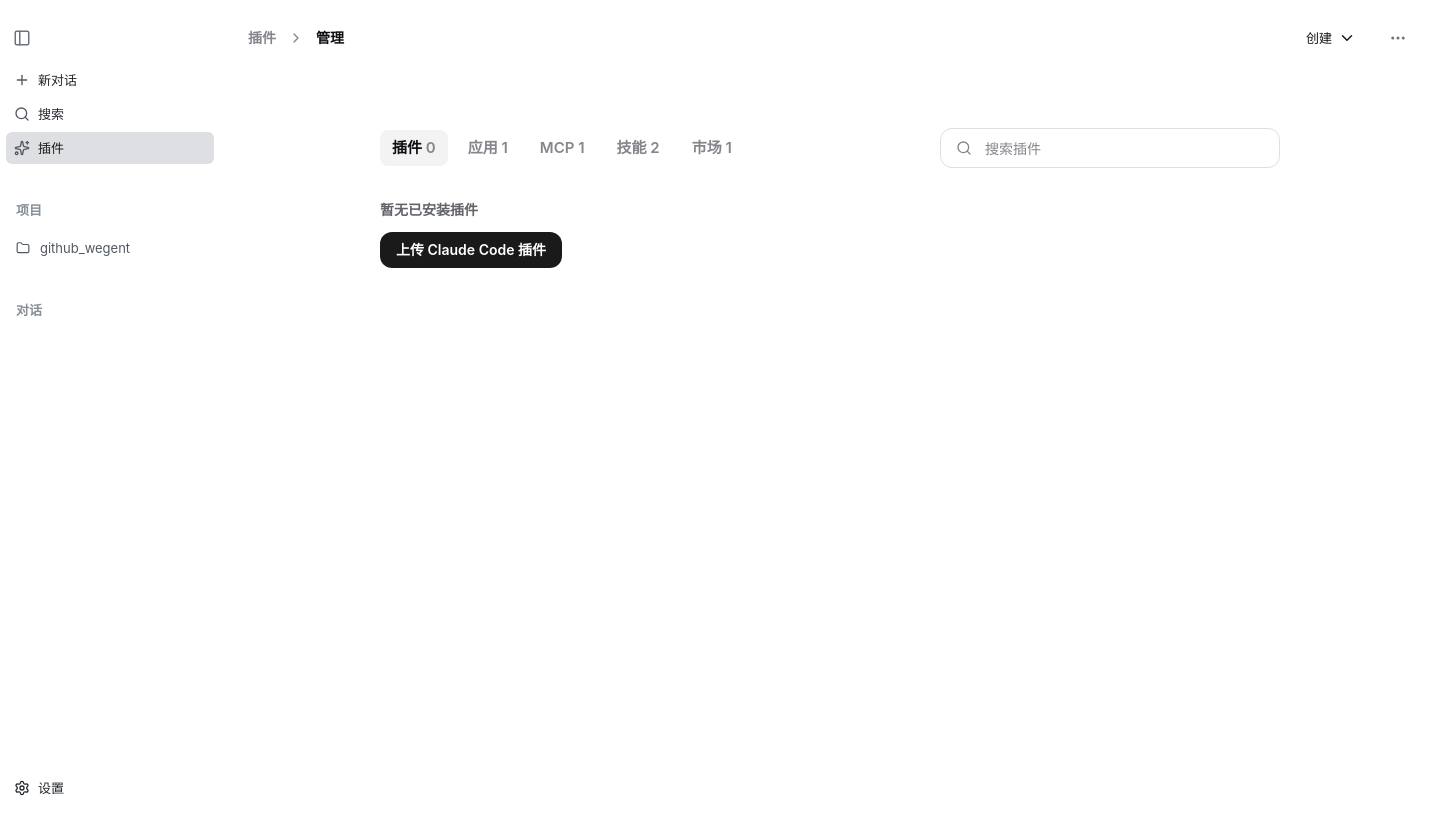
Scenario: App plugins route › collapses and expands the desktop sidebar on plugin management route
Expected: the text "暂无已安装插件" is shown, [380,200,478,220]
Click the button with test id "collapse-sidebar-button" at {"x": 22, "y": 38}, box [8,24,36,52]
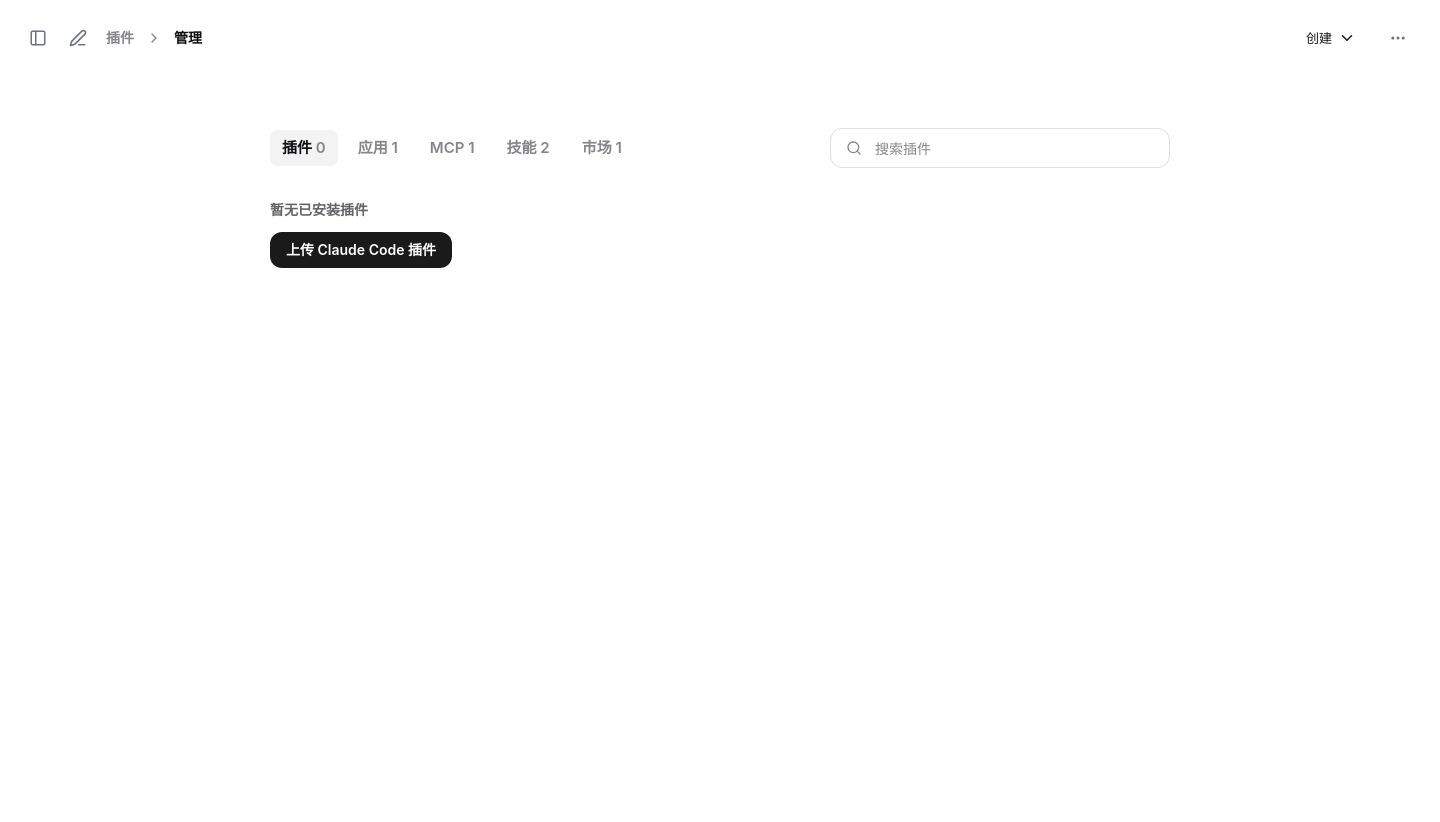
Now the button with test id "plugins-button" is gone
Now the button with test id "expand-sidebar-button" is shown
Click the button with test id "expand-sidebar-button" at {"x": 38, "y": 38}, box [24,24,52,52]
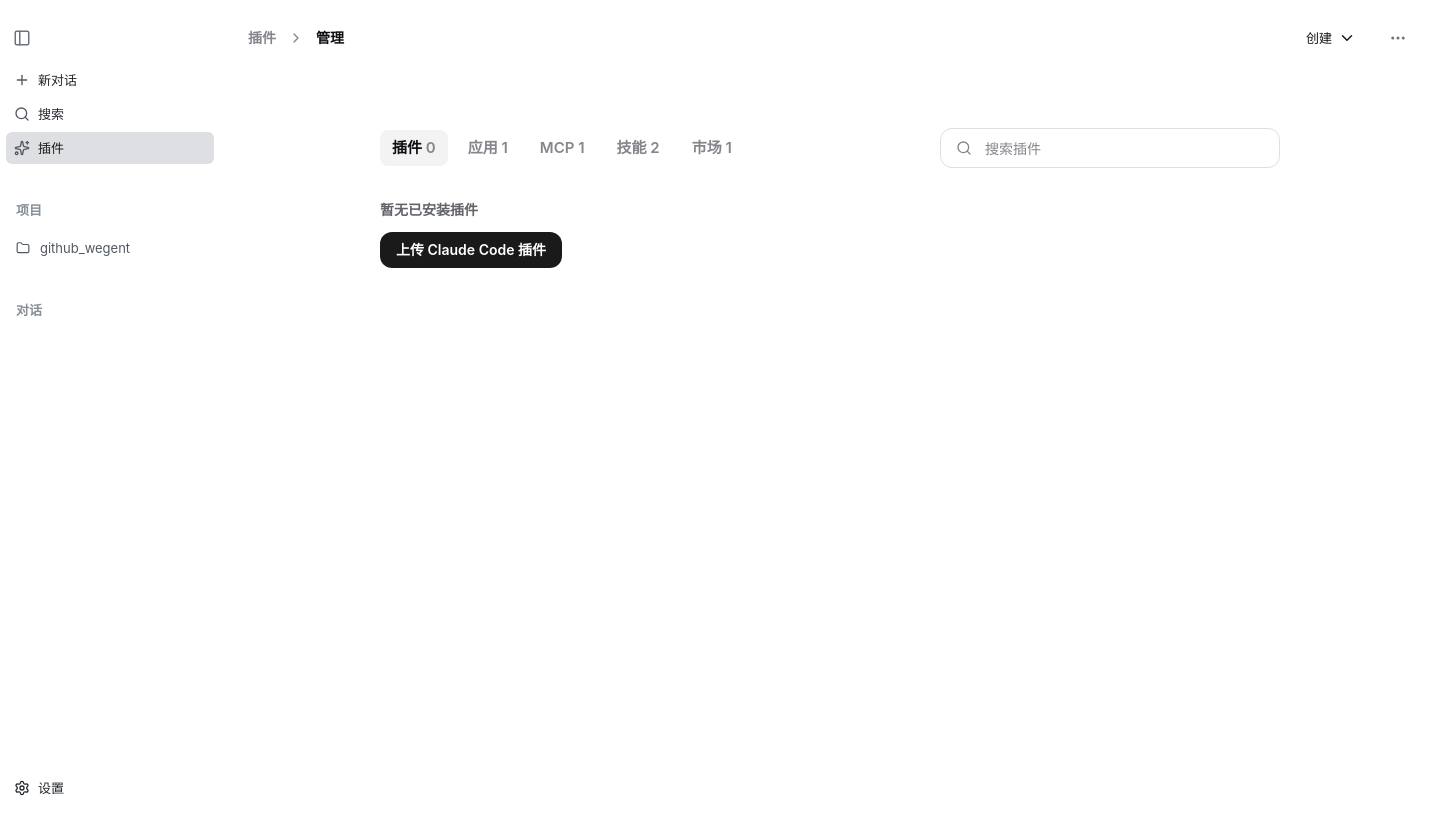
Now the button with test id "plugins-button" is shown, box [6,132,214,164]
